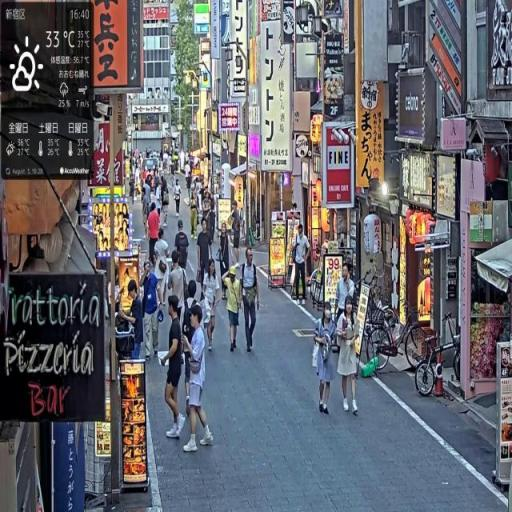person: (183, 304, 215, 454), (160, 296, 186, 441), (313, 304, 339, 420), (338, 298, 362, 419), (141, 255, 166, 364), (240, 247, 261, 357), (224, 265, 245, 356), (203, 258, 222, 355), (291, 223, 312, 305), (197, 218, 215, 290), (174, 220, 191, 279), (190, 195, 200, 240), (175, 179, 183, 216)
